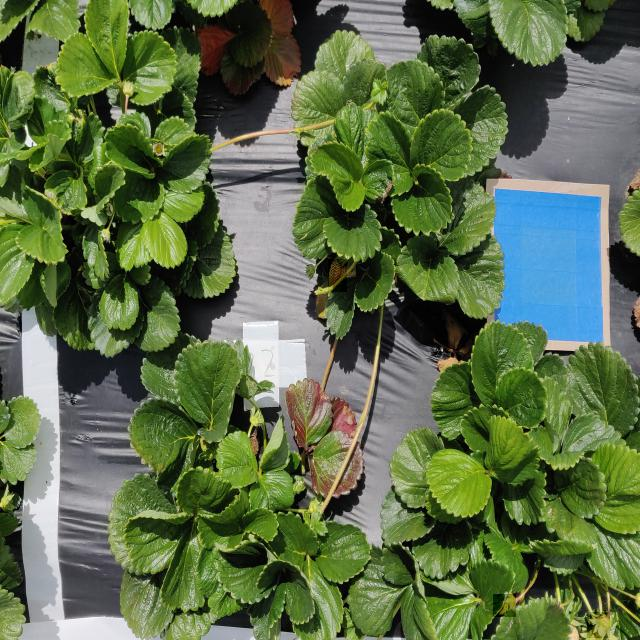partially-ripe: (154, 141, 164, 158)
ripe: (328, 259, 348, 293), (587, 612, 611, 639), (493, 594, 517, 618), (315, 288, 333, 319)
